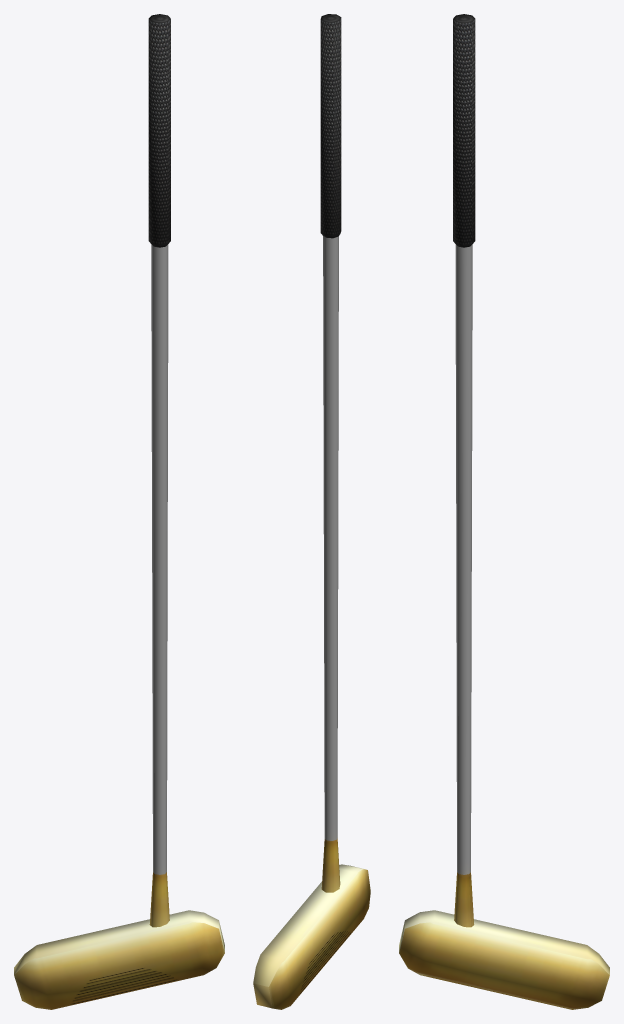
File: PutterOTL.FBX
The picture shows the model from 3 angles, left to right: view 1: azimuth 90°, elevation 25°; view 2: azimuth 150°, elevation 25°; view 3: azimuth 270°, elevation 25°; orthographic projection. The views are drawn at different scales.
Visible parts, largest first — view 1: Putter; view 2: Putter; view 3: Putter.
Boxes of the visible parts, left/top/right/bottom form: Putter: left=14, top=14, right=224, bottom=1009; Putter: left=253, top=14, right=370, bottom=1009; Putter: left=399, top=14, right=609, bottom=1009.
Size of the model in its own units: 0.0306 by 1.2 by 0.2317.
